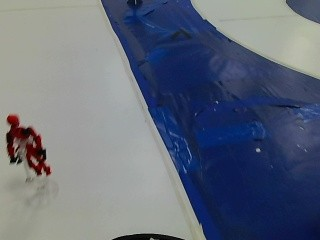pedestrian: (1, 109, 54, 175)
